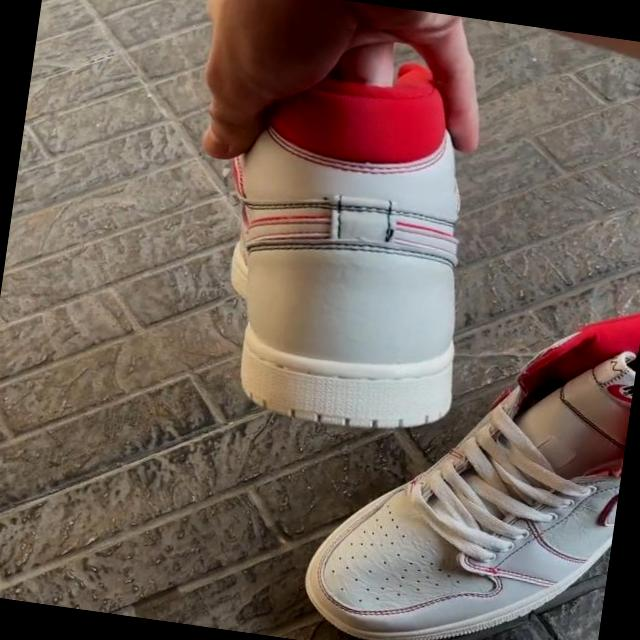nike_fake_jordan: (192, 8, 502, 449), (296, 267, 640, 640)
